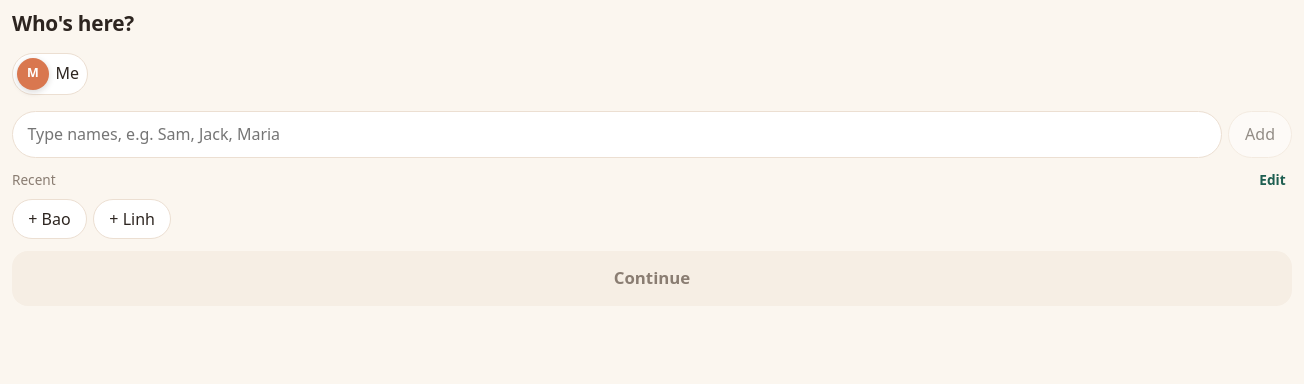
Test case: PeoplePicker › caps the group at 12 people
In the field named "add names": {"x": 617, "y": 134} [12,110,1222,158], type "A B C D E F G H I J K L M N"
Then press Enter
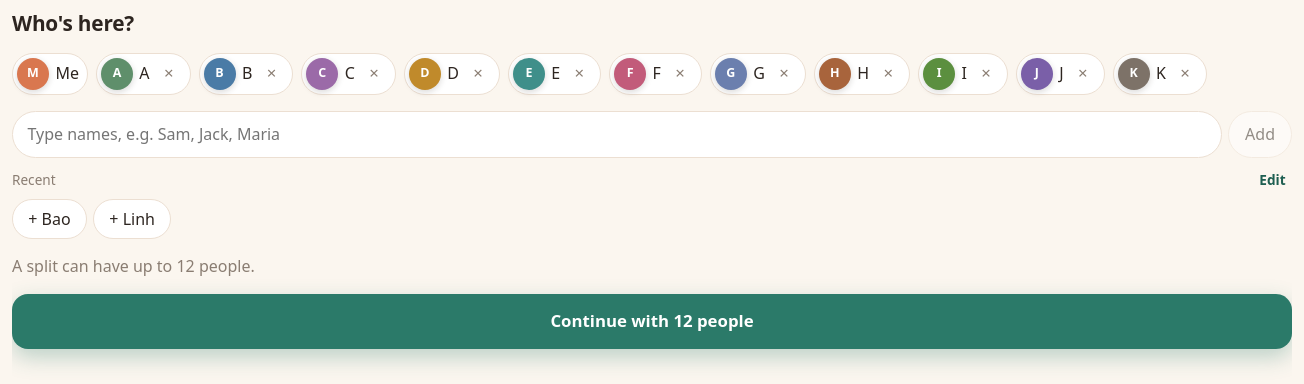
Expected: the number of list items is 12
Expected: the message shows "12 people", [12,255,255,277]
